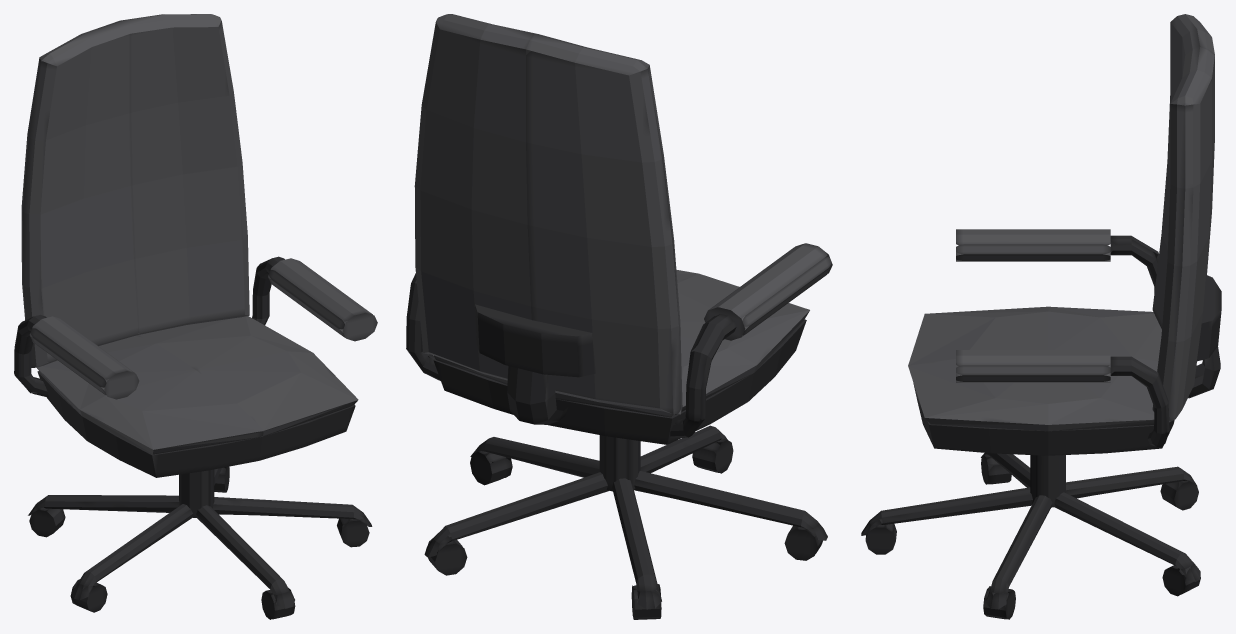
File: labChair.fbx
3 views of the same model, side by side, from view 1: azimuth 30°, elevation 25°; view 2: azimuth 150°, elevation 25°; view 3: azimuth 270°, elevation 25° (orthographic). The views are drawn at different scales.
Visible parts, largest first — view 1: cuboid_1, sphere, cylinder_4, cuboid, cylinder_2, cylinder, cylinder_1, cylinder_3; view 2: cuboid_1, cylinder_4, cylinder_5, cuboid, sphere, cylinder, cylinder_1, cylinder_3; view 3: sphere, cuboid_1, cylinder_4, cuboid, cylinder, cylinder_2, cylinder_5, cylinder_3, cylinder_1.
Part boxes in pixels (<box>): cuboid_1: <box>21,14,249,367</box>; sphere: <box>37,316,358,454</box>; cylinder_4: <box>28,466,372,619</box>; cuboid: <box>37,371,355,477</box>; cylinder_2: <box>268,258,377,341</box>; cylinder: <box>29,316,139,399</box>; cylinder_1: <box>14,315,48,397</box>; cylinder_3: <box>252,256,284,325</box>; cuboid_1: <box>414,14,682,414</box>; cylinder_4: <box>424,425,827,619</box>; cylinder_5: <box>475,304,595,424</box>; cuboid: <box>433,319,806,444</box>; sphere: <box>433,269,809,417</box>; cylinder: <box>704,243,832,340</box>; cylinder_1: <box>670,314,736,438</box>; cylinder_3: <box>406,273,440,380</box>; sphere: <box>908,306,1161,431</box>; cuboid_1: <box>1152,14,1214,422</box>; cylinder_4: <box>861,453,1200,619</box>; cuboid: <box>913,383,1174,455</box>; cylinder: <box>956,229,1110,261</box>; cylinder_2: <box>956,350,1110,382</box>; cylinder_5: <box>1188,275,1221,398</box>; cylinder_3: <box>1110,356,1169,446</box>; cylinder_1: <box>1110,235,1158,292</box>.
Size of the model in its own units: 75.36 by 116 by 75.67.
Materials: 1 (1 with a texture image).
